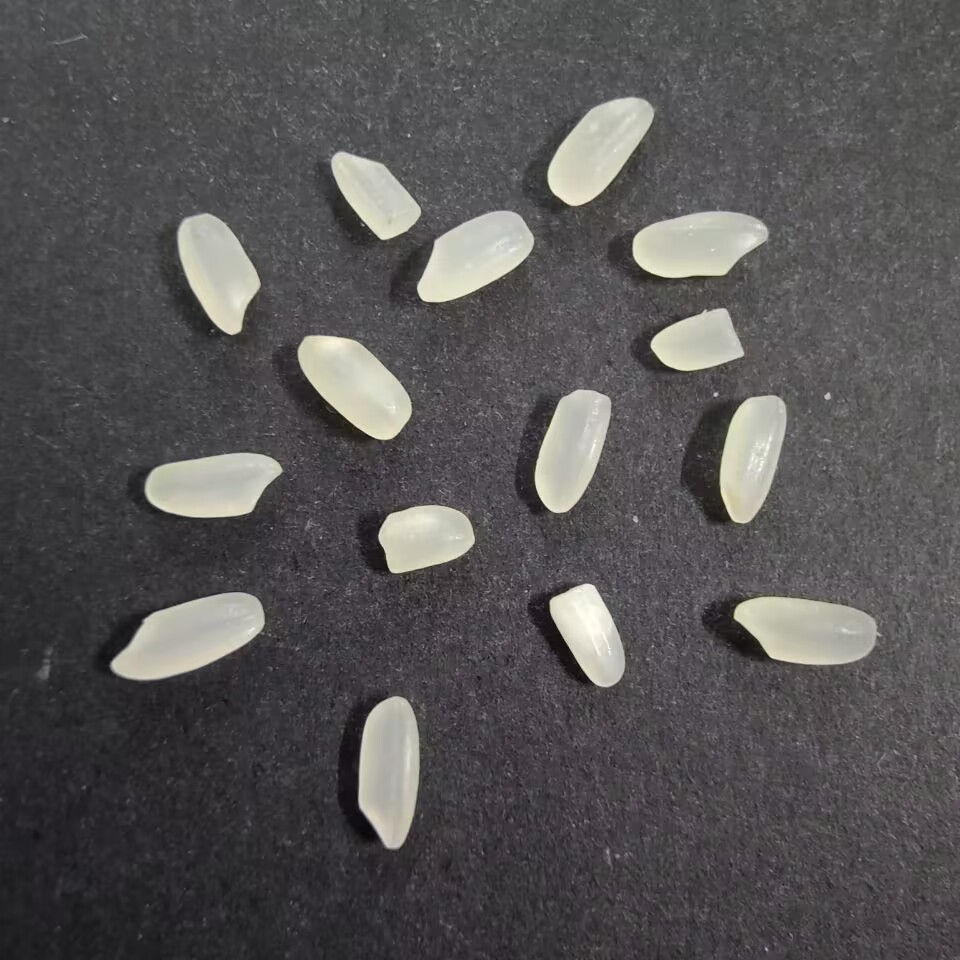broken: (545, 578, 627, 692), (375, 500, 479, 582), (329, 150, 422, 241), (645, 303, 748, 376)
rice: (105, 591, 268, 686), (541, 93, 656, 211), (296, 333, 415, 443), (409, 206, 535, 306), (731, 593, 882, 669), (175, 210, 263, 340), (352, 692, 422, 852), (628, 209, 773, 280), (533, 386, 612, 514), (145, 447, 283, 520), (716, 391, 788, 527)
